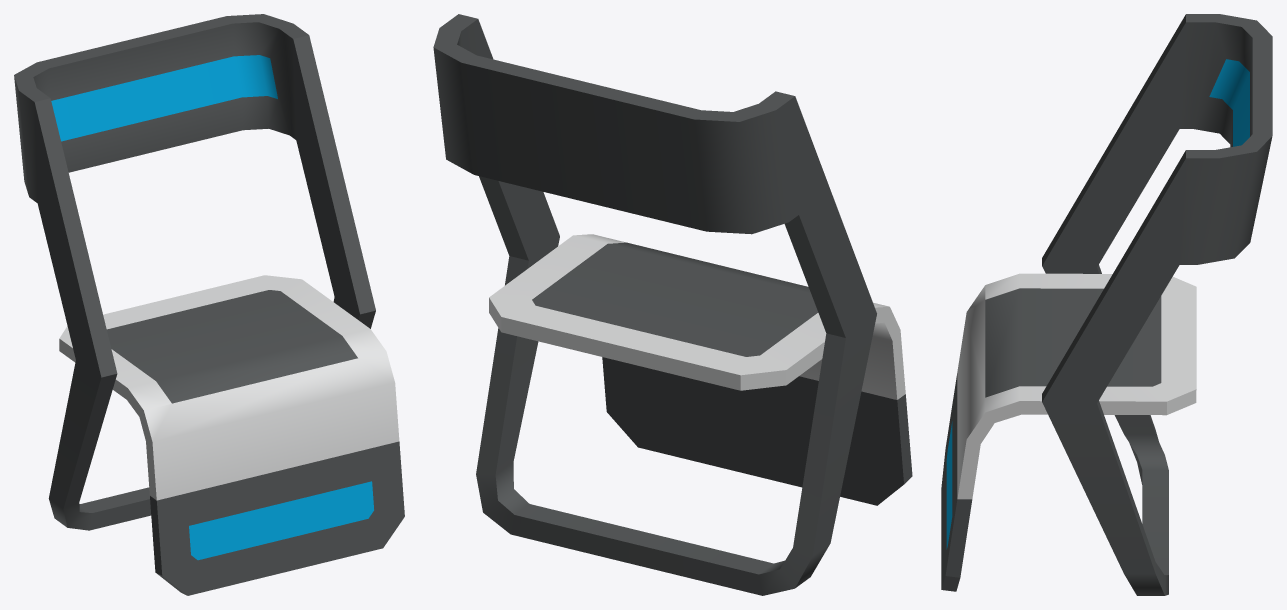
Rendered from Chair_014.fbx.
The picture shows the model from 3 angles, left to right: view 1: azimuth 30°, elevation 25°; view 2: azimuth 150°, elevation 25°; view 3: azimuth 270°, elevation 25°; orthographic projection. The views are drawn at different scales.
Visible parts, largest first — view 1: Chair_014; view 2: Chair_014; view 3: Chair_014.
Part boxes in pixels (x1=…): Chair_014: x1=14, y1=14, x2=404, y2=595; Chair_014: x1=433, y1=14, x2=912, y2=595; Chair_014: x1=941, y1=14, x2=1272, y2=595.
Size of the model in its own units: 63.54 by 61.61 by 93.32.
